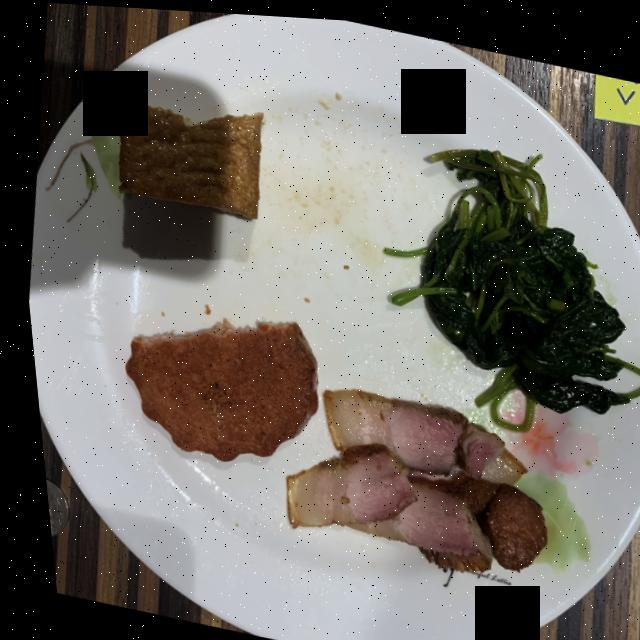Spam: (117, 318, 309, 459)
coin: (36, 479, 57, 536)
egg tofu: (115, 86, 261, 216)
grilled pork: (277, 385, 536, 568)
sweet potato leaves: (379, 143, 640, 425)
